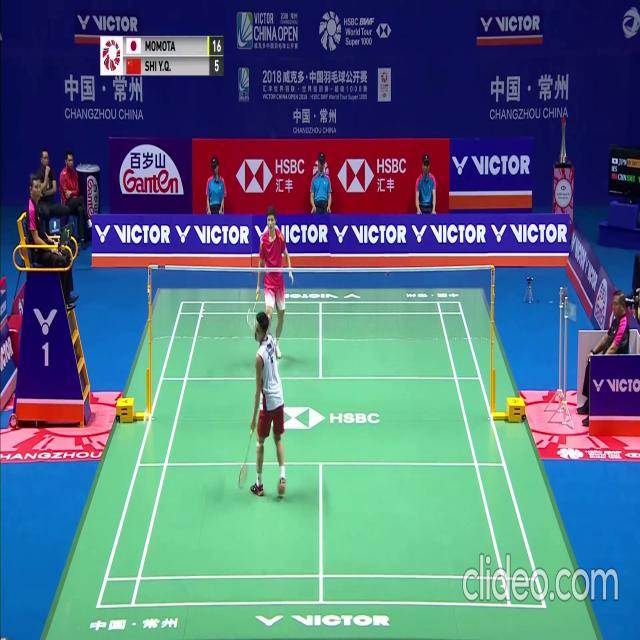Shuttlecock: (142, 416, 146, 423)
